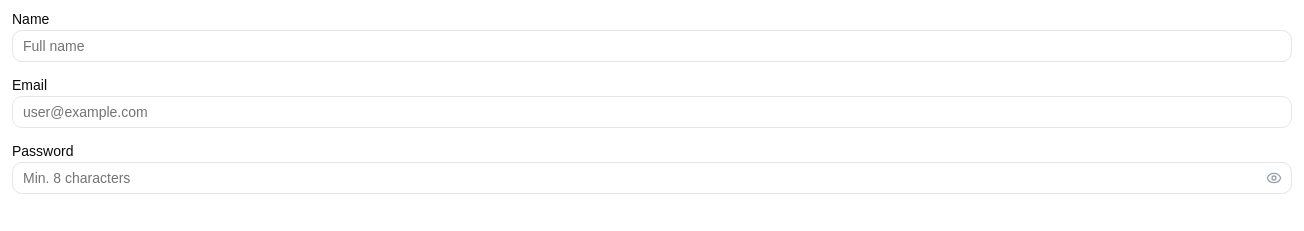
Test case: UserForm › name validation › shows error when fewer than 3 characters are typed
Type "ab" into the field labelled "Name" at [652, 46], box [12, 30, 1292, 62]
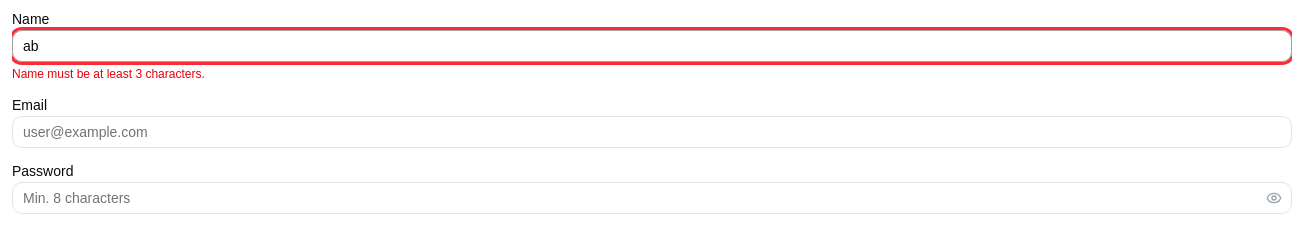
Result: the text "Name must be at least 3 characters." is shown at [12, 67, 205, 81]
